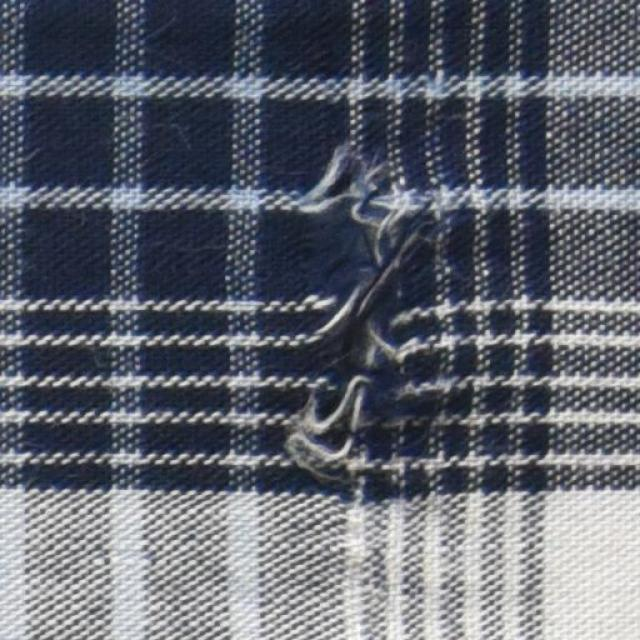Snag: (271, 125, 443, 487)
